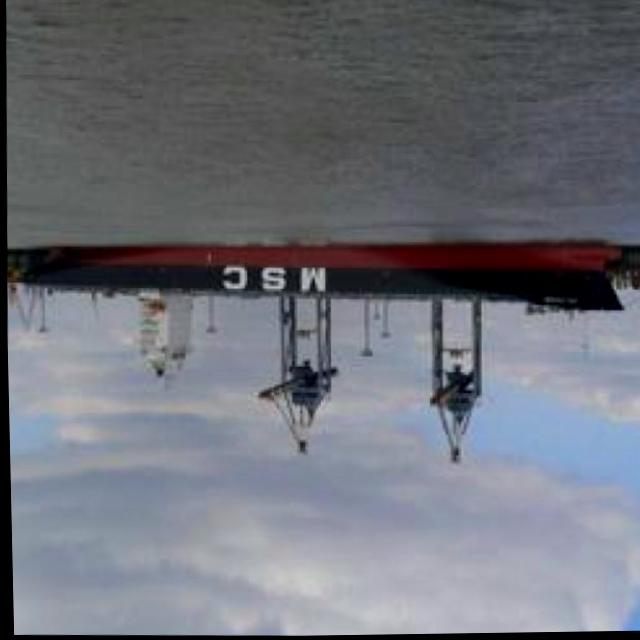ship2: (14, 244, 620, 390)
